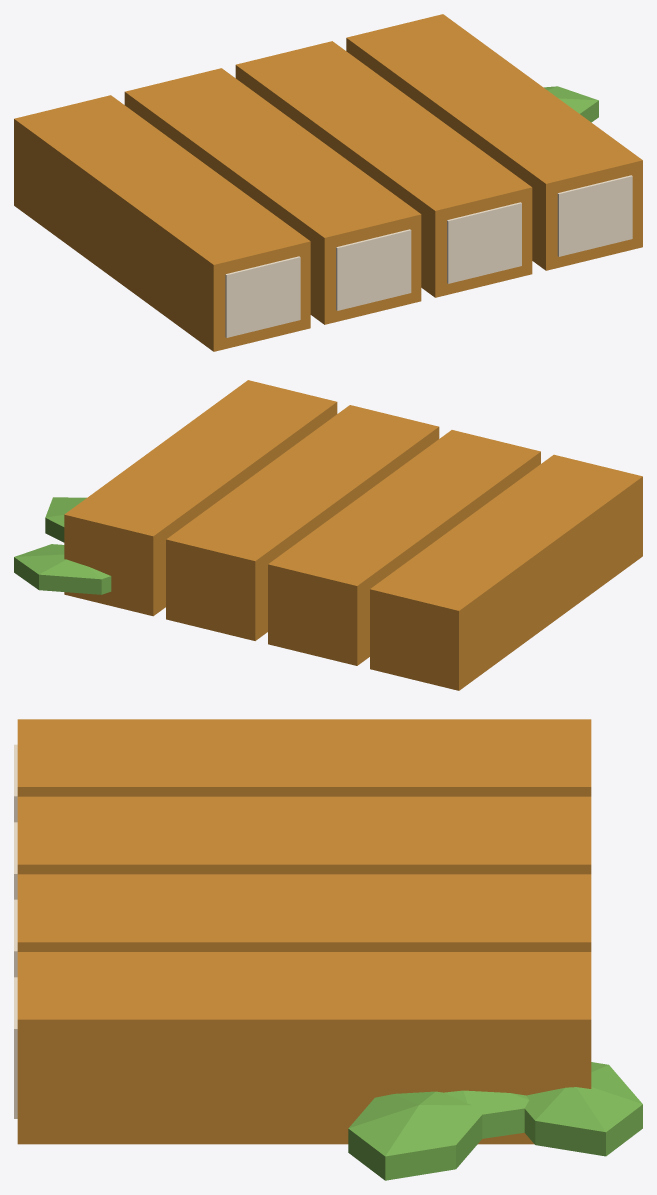
File: Food_PorkCutlet.obj
3 views of the same model, one above another, from view 1: azimuth 30°, elevation 25°; view 2: azimuth 150°, elevation 25°; view 3: azimuth 270°, elevation 25° (orthographic). The views are drawn at different scales.
Bounding box in the file's own units: 2.22 × 0.36 × 1.65.
